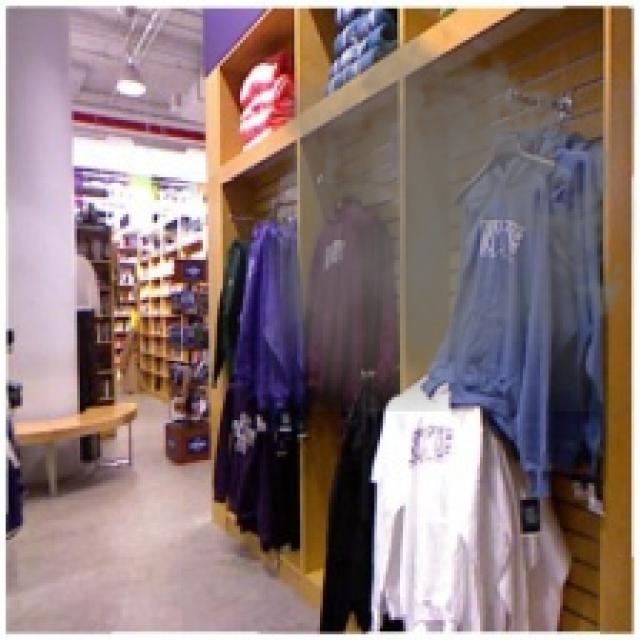smoke: (260, 11, 637, 412)
